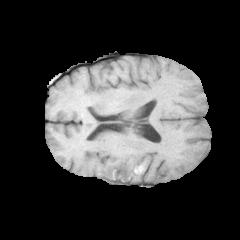glioma: (84, 140, 137, 183)
